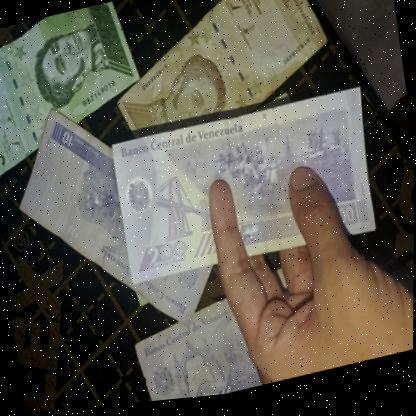fifty-front-vef: (0, 0, 148, 180)
five-front-vef: (103, 0, 336, 142)
ten-back-vef: (6, 77, 233, 364), (127, 247, 404, 406)
two_hundred-back-vef: (109, 90, 382, 293)
